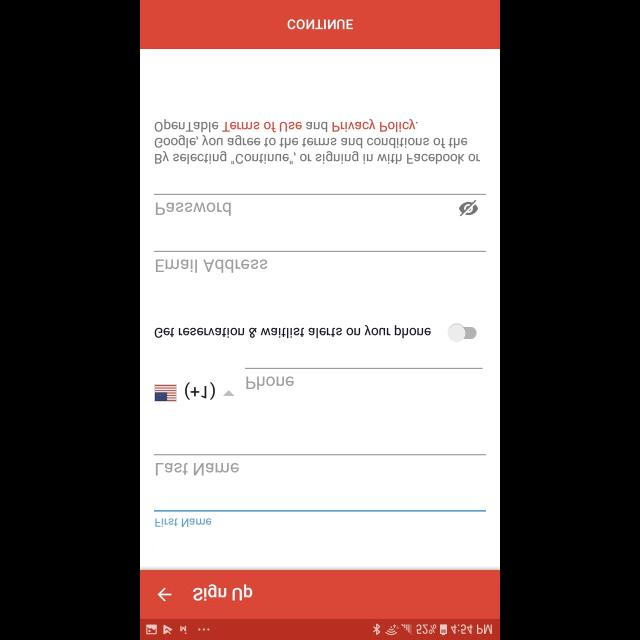icon: (459, 200, 478, 217), (158, 586, 172, 602), (223, 390, 235, 396)
image: (154, 383, 178, 402)
input: (154, 250, 486, 274), (154, 194, 486, 216), (154, 453, 486, 475), (154, 509, 486, 526), (245, 366, 483, 389)
switch: (448, 324, 477, 342)
text: (155, 119, 481, 165), (154, 325, 432, 339), (156, 259, 268, 273), (156, 462, 240, 476), (156, 202, 232, 216), (193, 584, 253, 600), (246, 376, 294, 390), (184, 382, 216, 401), (156, 518, 212, 526)
textbutton: (140, 0, 499, 49)
uppertaskbar: (140, 618, 500, 640)
